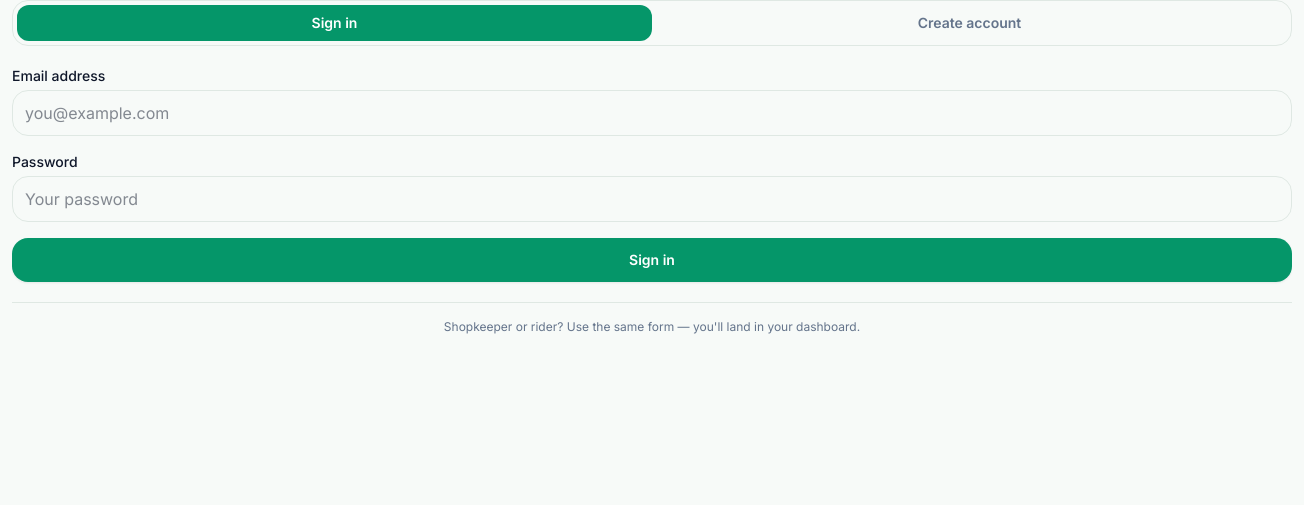
Test: LoginFlow — sign up › requires an 8+ character password
Click the tab "Create account" at [970, 23], box 652,5 -> 1287,41
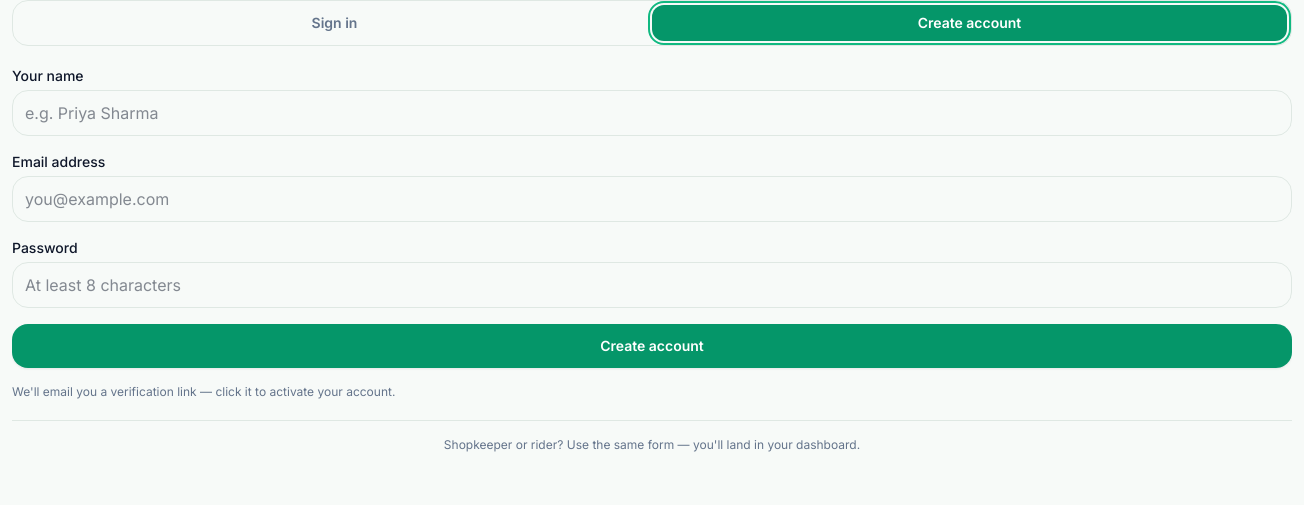
Type "Priya Sharma" into the field labelled "Your name" at [652, 113], box 12,90 -> 1292,136
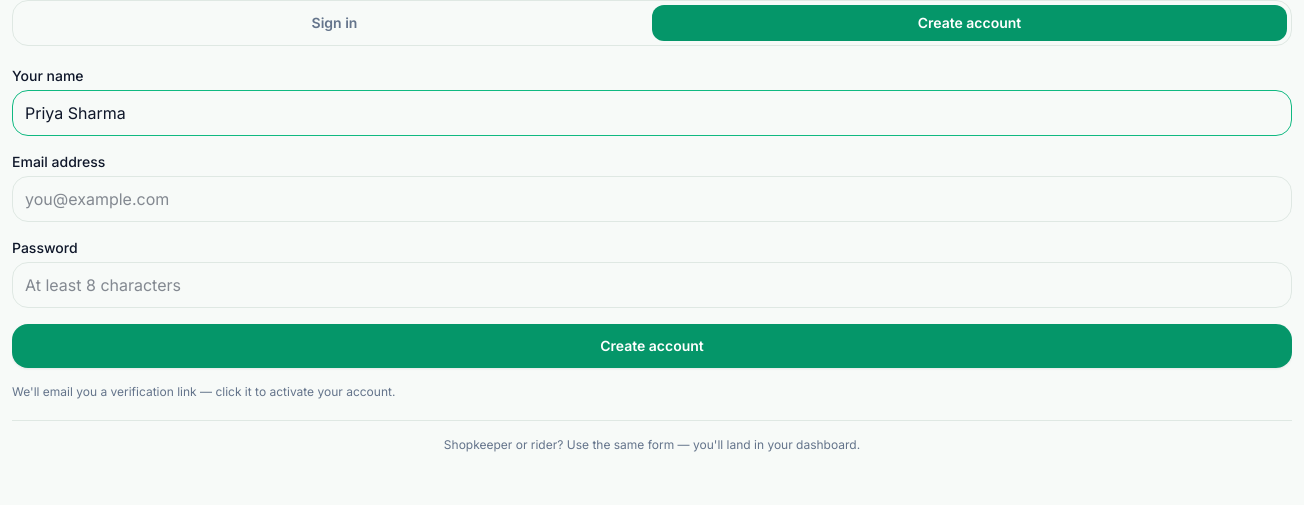
Type "new@example.com" into the field labelled "Email address" at [652, 199], box 12,176 -> 1292,222
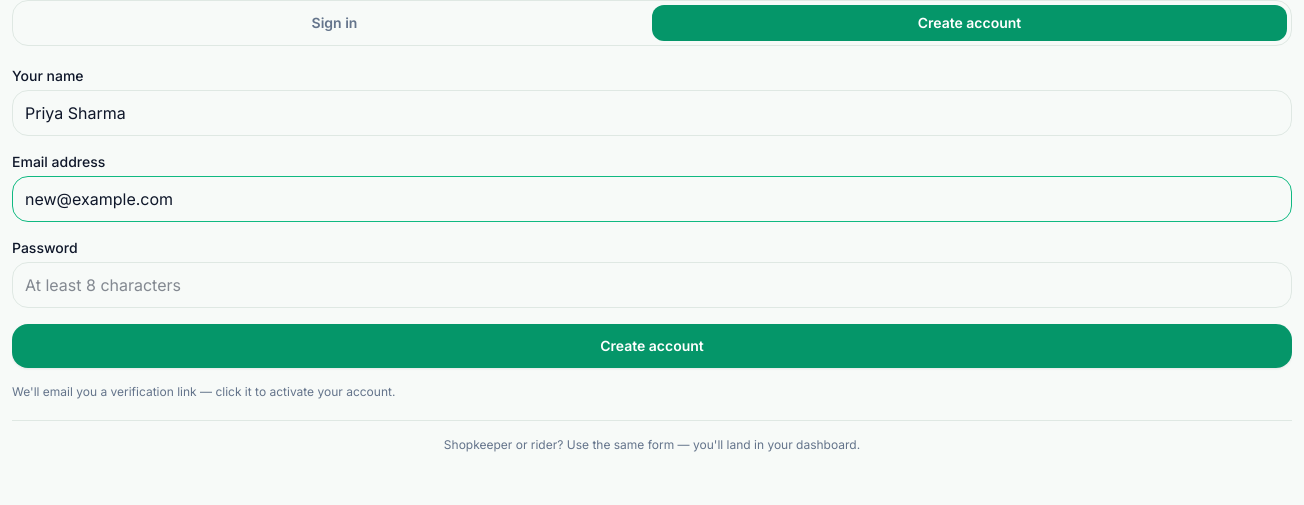
Type "short" into the password field labelled "Password" at [652, 285], box 12,262 -> 1292,308
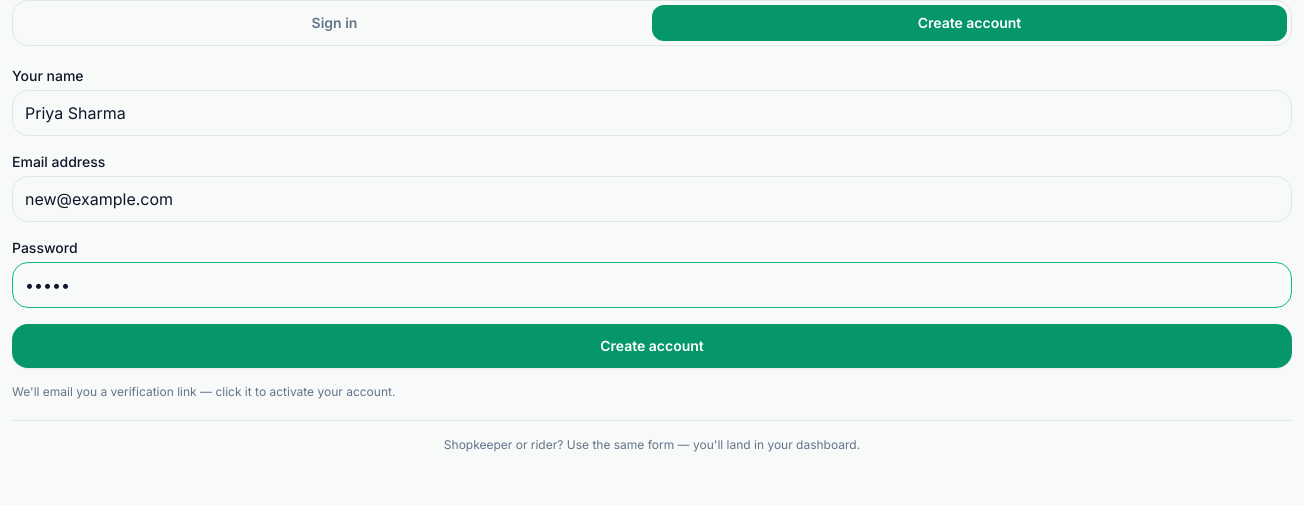
Click the button "Create account" at [652, 346], box 12,324 -> 1292,368
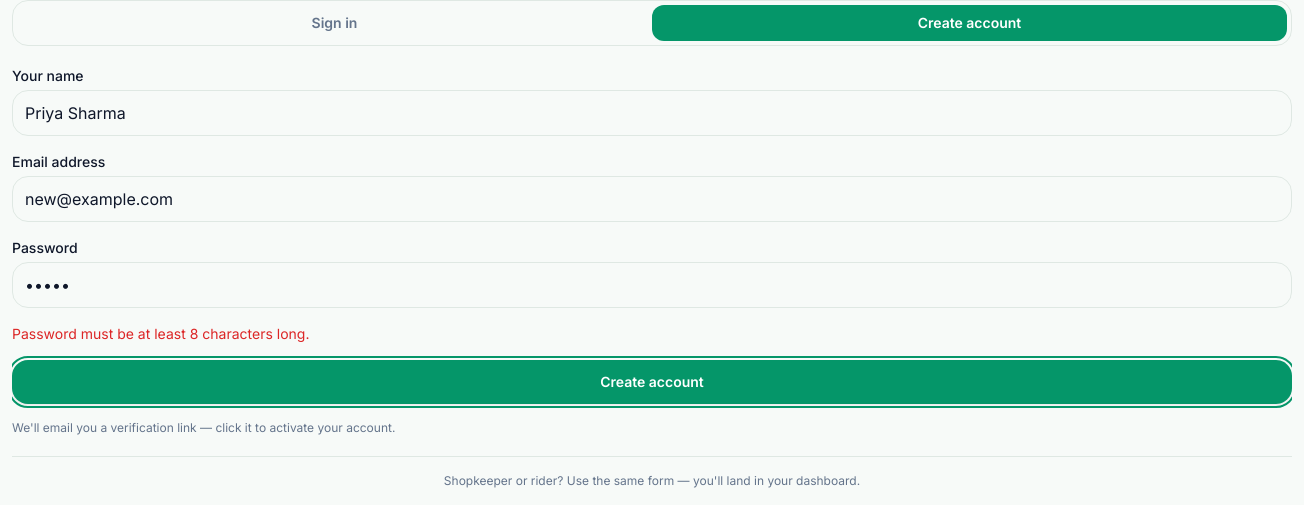
Expected: the message shows "at least 8 characters", 12,325 -> 309,342
